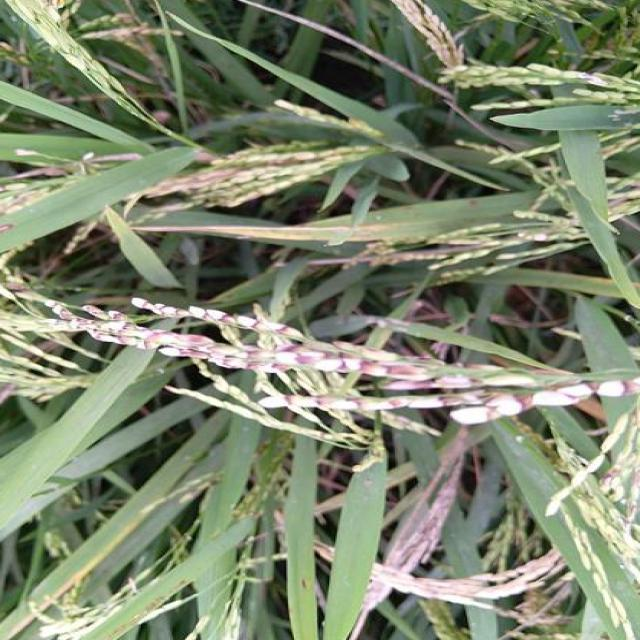Panicle Blight: (51, 303, 488, 389), (285, 376, 640, 424), (147, 152, 314, 197), (132, 298, 262, 332)
